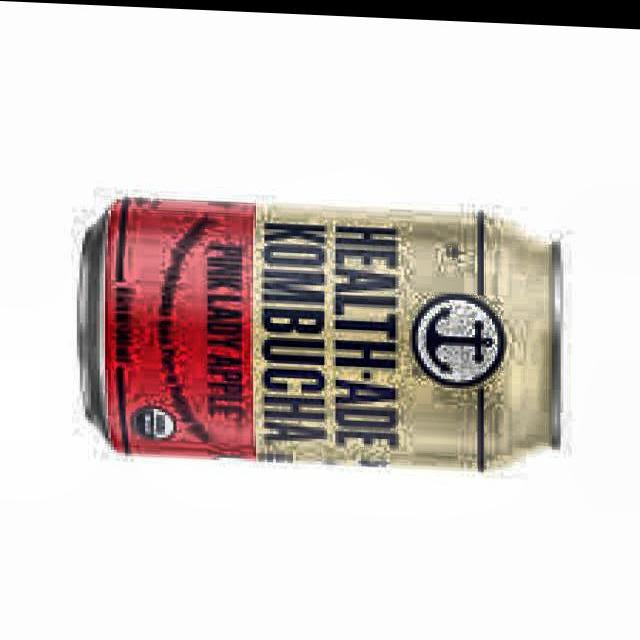litter: (69, 193, 569, 482)
